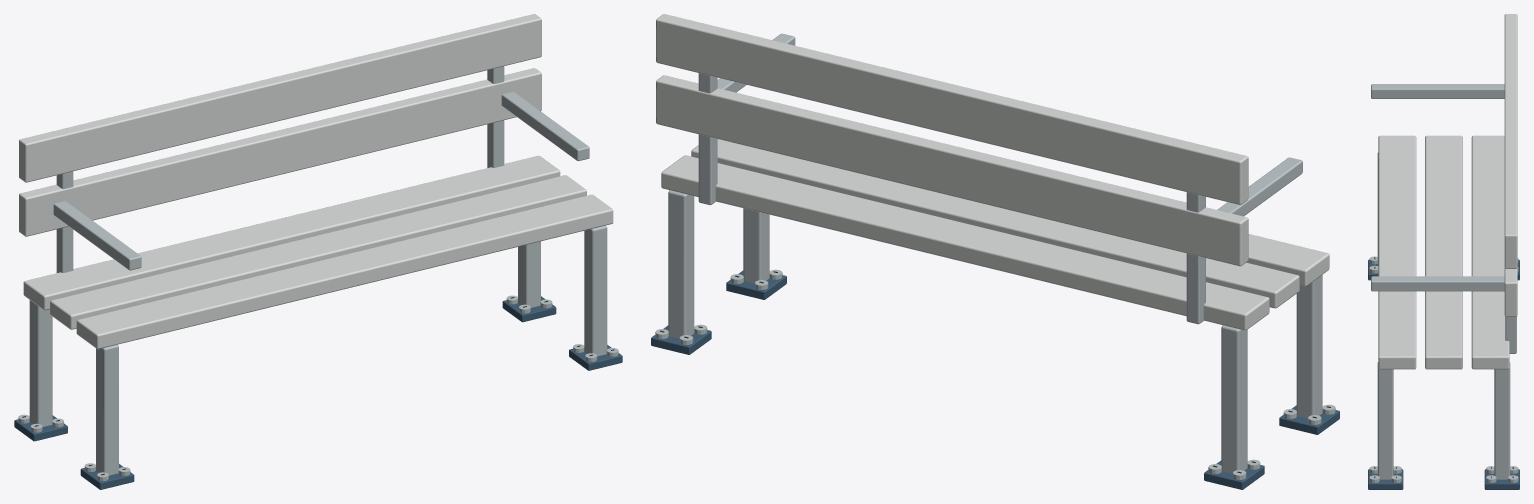
Rendered from container-inspection-and-customs-yard-container-inspec-ab3adc49__29325.glb.
3 views of the same model, side by side, from view 1: azimuth 30°, elevation 25°; view 2: azimuth 150°, elevation 25°; view 3: azimuth 270°, elevation 25° (orthographic). The views are drawn at different scales.
Parts seen in each view (by area): view 1: container-inspection-and-customs-yard-visitor-bench; view 2: container-inspection-and-customs-yard-visitor-bench; view 3: container-inspection-and-customs-yard-visitor-bench.
Boxes of the visible parts, <box> form: container-inspection-and-customs-yard-visitor-bench: <box>14,14,622,489</box>; container-inspection-and-customs-yard-visitor-bench: <box>651,14,1339,489</box>; container-inspection-and-customs-yard-visitor-bench: <box>1368,14,1519,489</box>.
Size of the model in its own units: 1.82 by 0.9601 by 0.5199.
